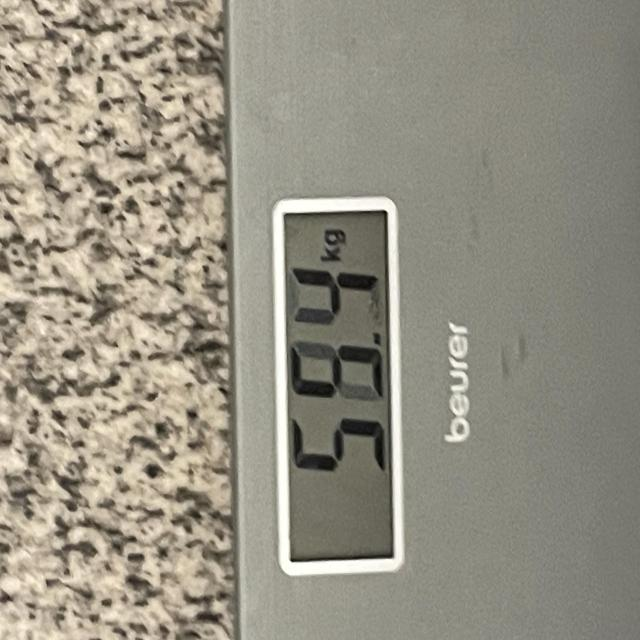ws: (272, 198, 405, 581)
